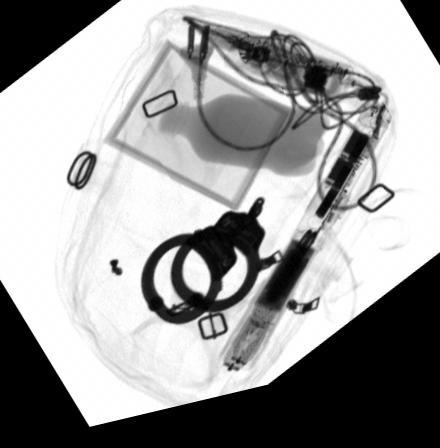Baton: (214, 116, 394, 385)
HandCuffs: (140, 206, 285, 335)
